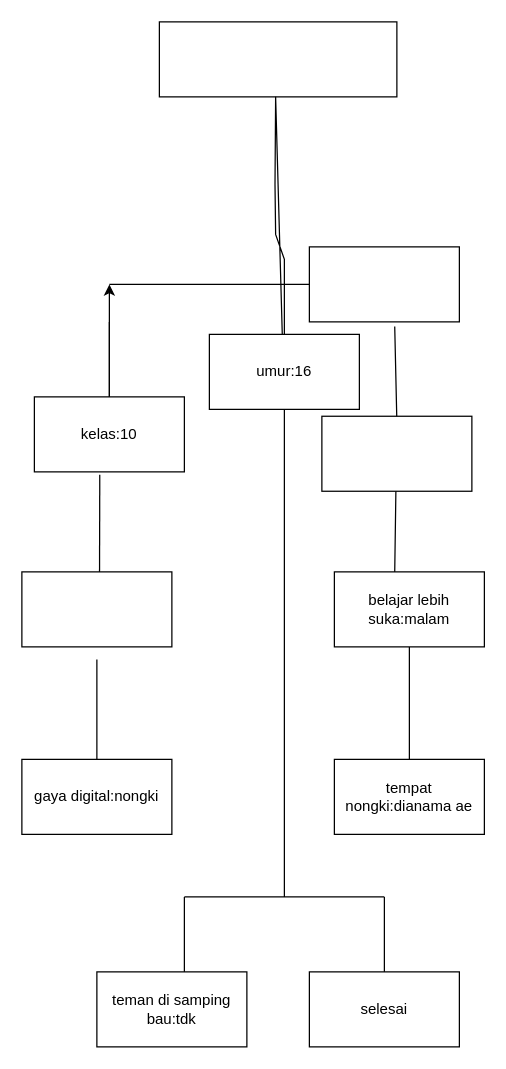
The diagram is 506 pixels wide and 1069 high, and some of its shapes have lost their labels. The shapes that lost their labels are listed below. From the top down, each one's box as (x1, y1, x2, y2) in pixels, then its label:
(158, 21, 397, 97): data diri digital
(308, 246, 459, 322): nama:nizar.a
(321, 415, 472, 491): hobi:futsal
(21, 571, 172, 647): cita cita:pengusaha
